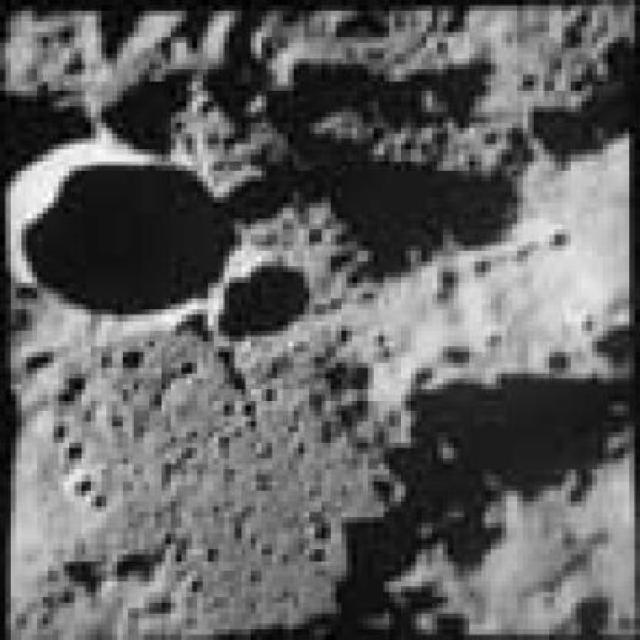crater: (8, 146, 238, 319), (206, 255, 311, 351)
